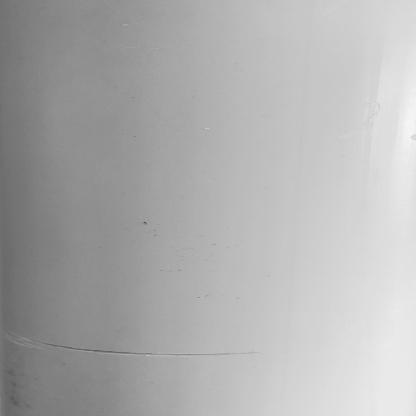sunshang: (4, 323, 266, 360)
